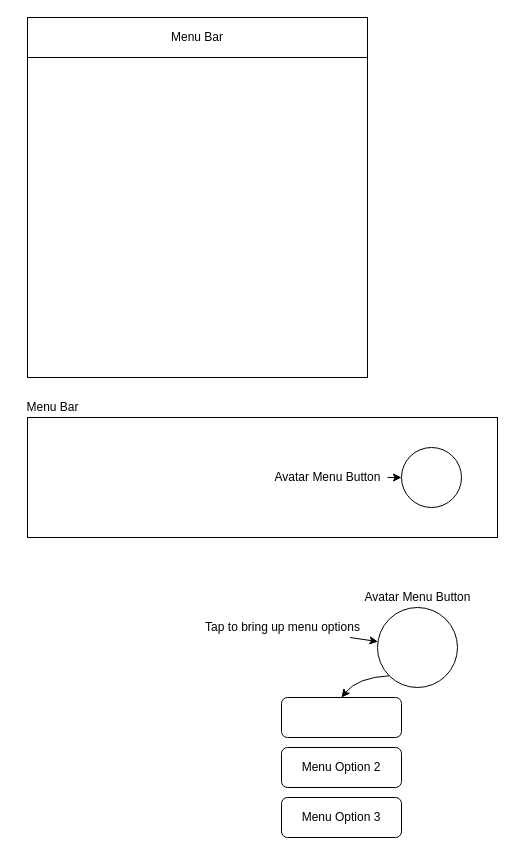
This 515x855 diagram has some shape labels left out. The box of each missing label's shape, as (x1, y1, x2, y2) in pixels:
Drawing Area: (26, 56, 368, 378)
Menu Option 1: (280, 696, 402, 738)
